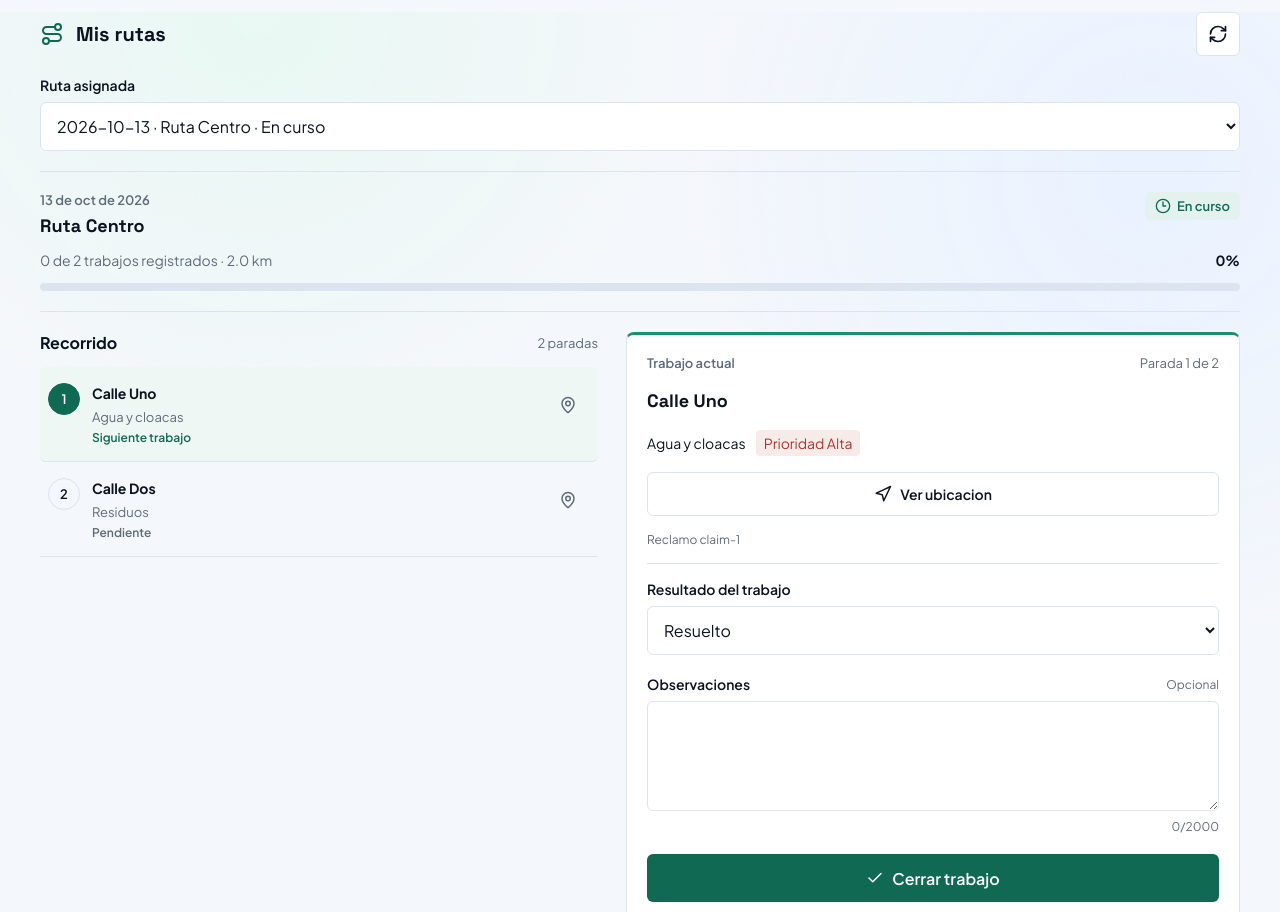
AgentRoutesPanel › blocks another close until refresh succeeds when the outcome cannot be confirmed
The width and height of the screenshot is (1280, 912).
Click the button "Cerrar trabajo" at (933, 878), box [647, 854, 1219, 902]
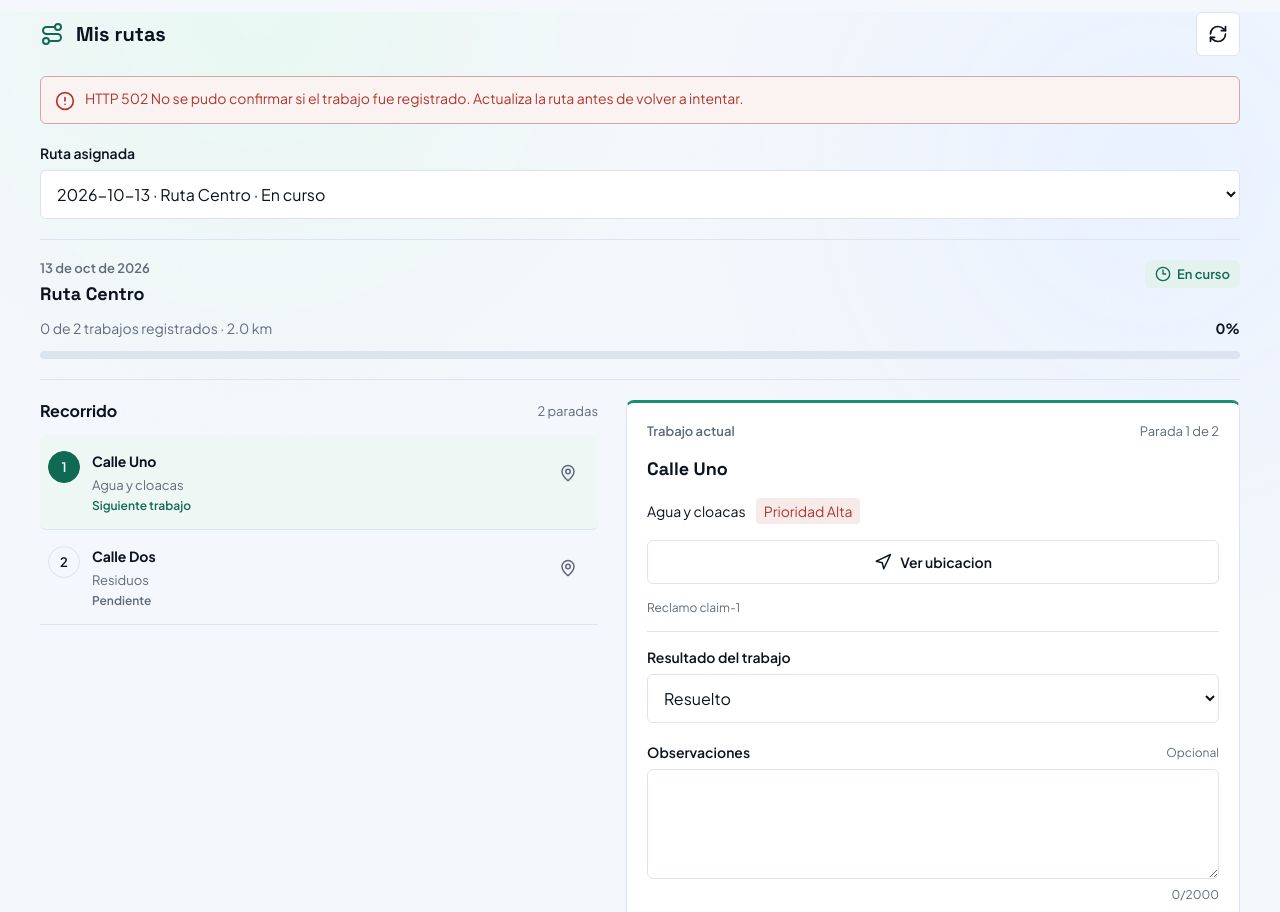
Check: the message shows "No se pudo confirmar si el trabajo fue registrado", box [85, 89, 744, 107]
Click the button named "Actualizar rutas" at (1218, 34), box [1196, 12, 1240, 56]
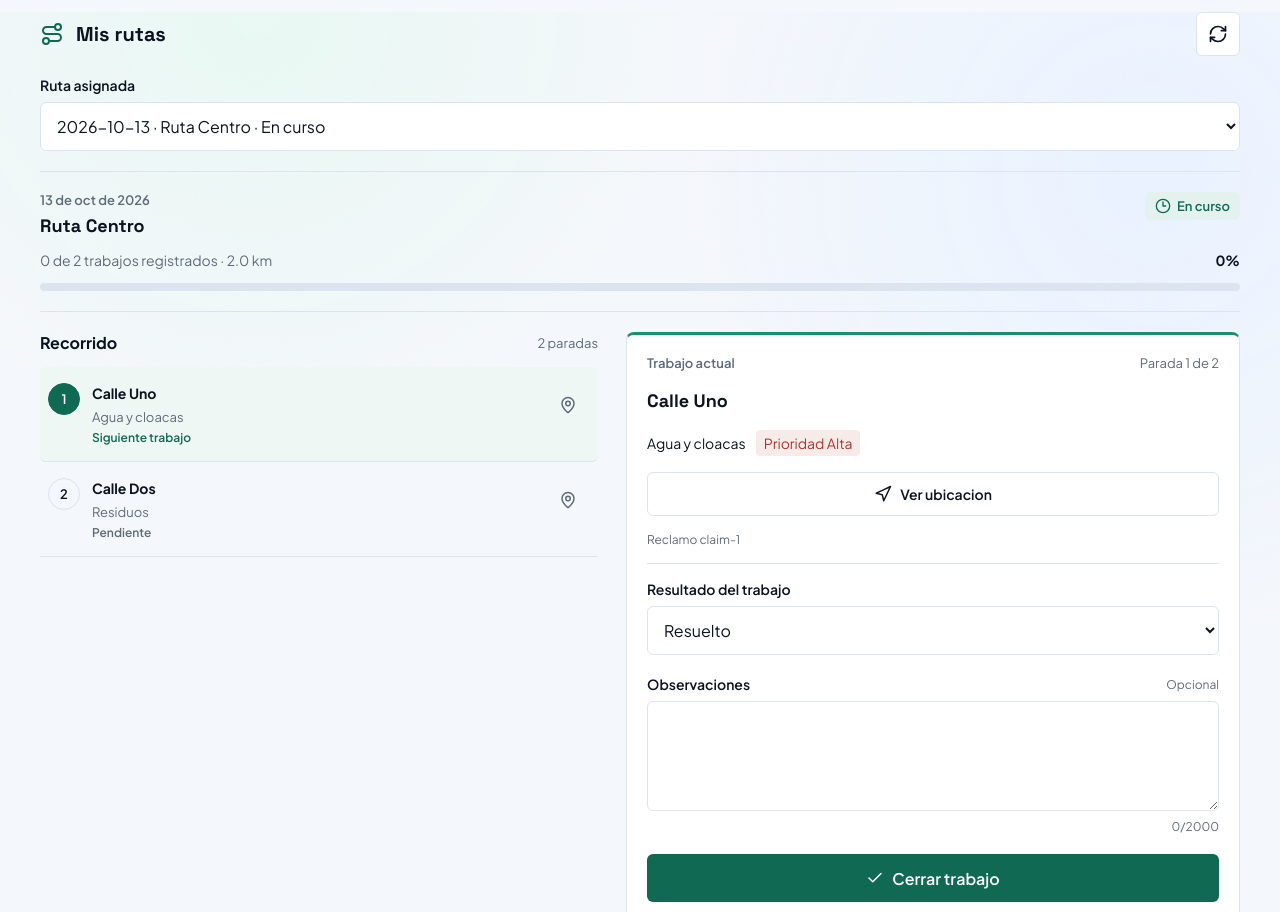
Check: the button "Cerrar trabajo" is enabled, box [647, 854, 1219, 902]
